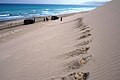human_foot_print: (76, 69, 93, 80), (78, 48, 93, 54), (79, 40, 94, 45), (80, 23, 87, 32), (80, 35, 92, 38)
